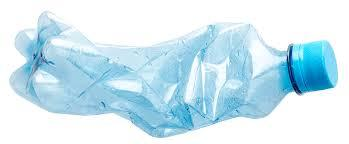plastic: (11, 10, 335, 139)
